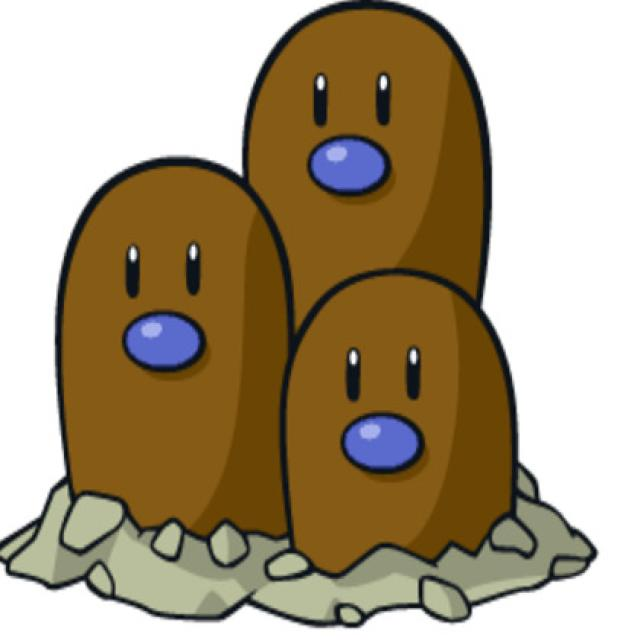Dugtrio: (56, 0, 541, 560)
